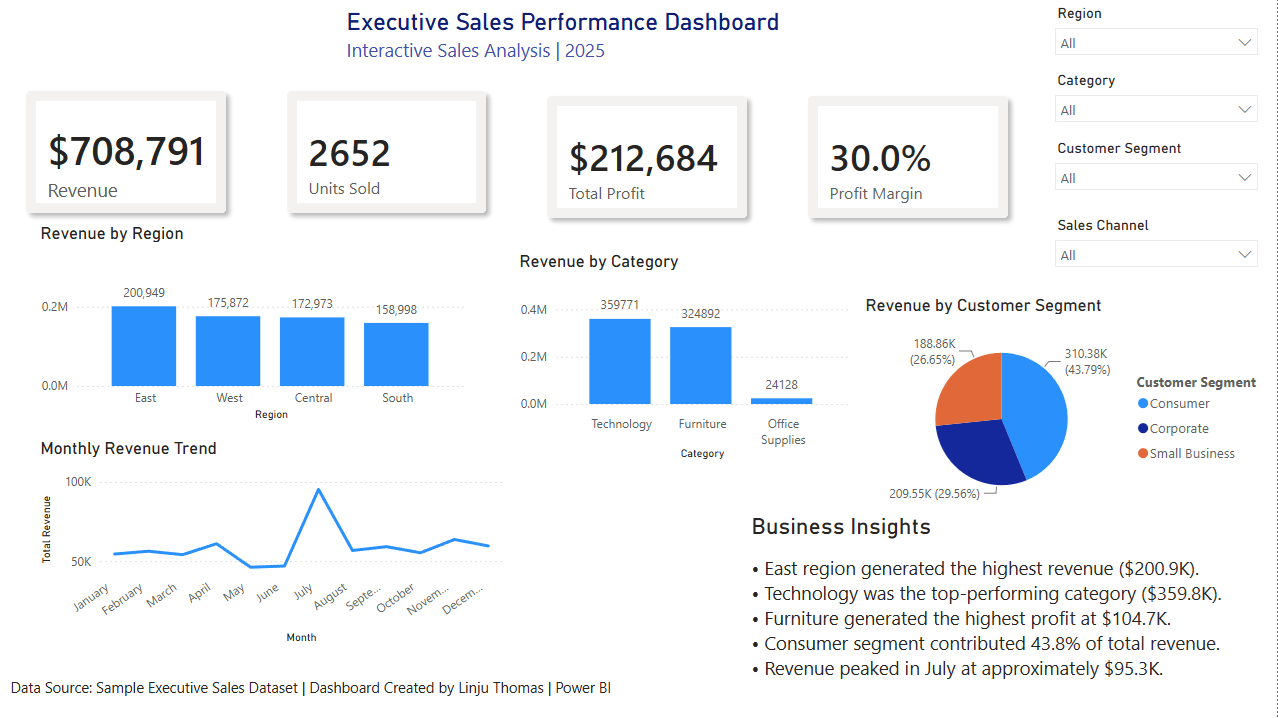

The dashboard page shown, as its layout file describes it:
{"tool":"powerbi","page":{"name":"Executive Dashboard","canvas":[1280,720],"ordinal":0},"visuals":[{"type":"cardVisual","fields":{"Data":["Measures (2).Total Revenue"]},"box":[0,63.9,257.9,180],"z":0},{"type":"cardVisual","fields":{"Data":["Measures (2).Total Quantity"]},"box":[260.6,63.9,257.9,180],"z":1000},{"type":"cardVisual","fields":{"Data":["Measures (2).Total Profit"]},"box":[521.1,68.5,257.9,180],"z":2000},{"type":"cardVisual","fields":{"Data":["Measures (2).Overall Profit Margin"]},"box":[781.7,68.5,257.9,180],"z":3000},{"type":"clusteredColumnChart","title":"Revenue by Region","fields":{"Category":["Sales_Data.Region"],"Y":["Measures (2).Total Revenue"]},"box":[39.5,225.3,433.2,202.1],"z":4000},{"type":"clusteredColumnChart","title":"Revenue by Category","fields":{"Category":["Sales_Data.Category"],"Y":["Measures (2).Total Revenue"]},"box":[518,253.2,338,212.6],"z":5000},{"type":"lineChart","title":"Monthly Revenue Trend","fields":{"Category":["Sales_Data.Order Date.Variation.Date Hierarchy.Month"],"Y":["Measures (2).Total Revenue"]},"box":[39.5,440.2,470.4,210.2],"z":6000},{"type":"pieChart","title":"Revenue  by Customer Segment","fields":{"Category":["Sales_Data.Customer Segment"],"Y":["Measures (2).Total Revenue"]},"box":[864.2,297.4,406.5,217.2],"z":7000},{"type":"slicer","fields":{"Values":["Sales_Data.Region"]},"box":[1047.7,2.3,223,66.2],"z":8000},{"type":"slicer","fields":{"Values":["Sales_Data.Customer Segment"]},"box":[1047.7,137.1,223,63.9],"z":9000},{"type":"slicer","fields":{"Values":["Sales_Data.Sales Channel"]},"box":[1047.7,213.7,223,68.5],"z":10000},{"type":"slicer","fields":{"Values":["Sales_Data.Category"]},"box":[1047.7,68.5,223,68.5],"z":11000},{"type":"textbox","title":"Executive Sales Performance Dashboard","box":[345,10.5,511.1,66.2],"z":12000},{"type":"textbox","title":"Business Insights","box":[750.3,514.6,529.7,196.3],"z":12001},{"type":"textbox","box":[9.3,673.7,641.2,37.2],"z":12002}]}

Visuals, with their boxes in screenshot pixels (x1, y1, x2, y2), scaled from the page's 1280x720 canvas onto the 1278x718 screenshot:
cardVisual - Measures (2).Total Revenue: 0, 64, 257, 243
cardVisual - Measures (2).Total Quantity: 260, 64, 518, 243
cardVisual - Measures (2).Total Profit: 520, 68, 778, 248
cardVisual - Measures (2).Overall Profit Margin: 780, 68, 1038, 248
"Revenue by Region" clusteredColumnChart: 39, 225, 472, 426
"Revenue by Category" clusteredColumnChart: 517, 252, 855, 465
"Monthly Revenue Trend" lineChart: 39, 439, 509, 649
"Revenue  by Customer Segment" pieChart: 863, 297, 1269, 513
slicer - Sales_Data.Region: 1046, 2, 1269, 68
slicer - Sales_Data.Customer Segment: 1046, 137, 1269, 200
slicer - Sales_Data.Sales Channel: 1046, 213, 1269, 281
slicer - Sales_Data.Category: 1046, 68, 1269, 137
"Executive Sales Performance Dashboard" textbox: 344, 10, 855, 76
"Business Insights" textbox: 749, 513, 1277, 709
textbox: 9, 672, 649, 709
